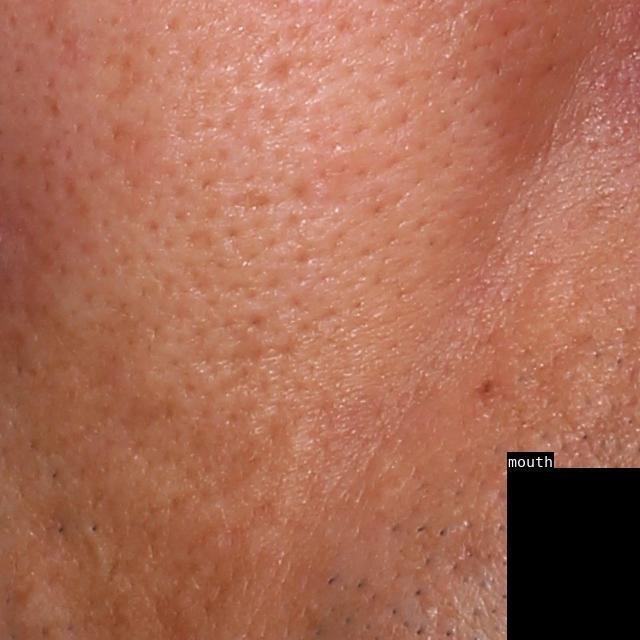atrophic_scar: (103, 48, 146, 111), (258, 52, 307, 88), (229, 191, 279, 220)
nevus: (458, 359, 526, 421)
